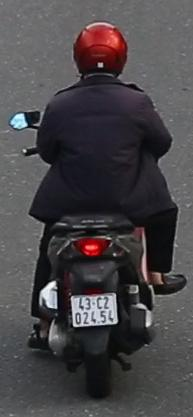LP: (69, 291, 119, 330)
helmet: (71, 18, 129, 90)
